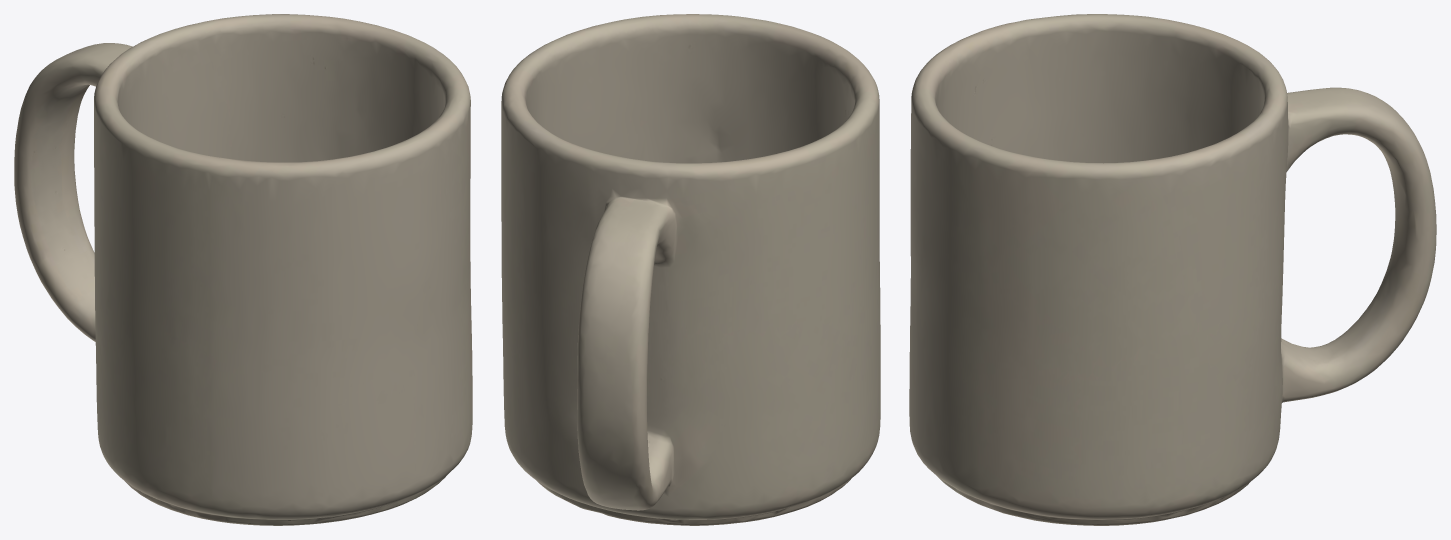
Rendered from mug_0_tripo.glb.
3 views of the same model, side by side, from view 1: azimuth 30°, elevation 25°; view 2: azimuth 150°, elevation 25°; view 3: azimuth 270°, elevation 25° (orthographic).
Visible parts, largest first — view 1: tripo_node_0c17c92f-d340-4858-b608-617bd06997ee; view 2: tripo_node_0c17c92f-d340-4858-b608-617bd06997ee; view 3: tripo_node_0c17c92f-d340-4858-b608-617bd06997ee.
Boxes of the visible parts, x1=… form: tripo_node_0c17c92f-d340-4858-b608-617bd06997ee: x1=14, y1=14, x2=472, y2=525; tripo_node_0c17c92f-d340-4858-b608-617bd06997ee: x1=501, y1=14, x2=880, y2=525; tripo_node_0c17c92f-d340-4858-b608-617bd06997ee: x1=909, y1=14, x2=1436, y2=525.
Size of the model in its own units: 0.0717 by 0.0772 by 0.1.
1 material, 1 textured.
